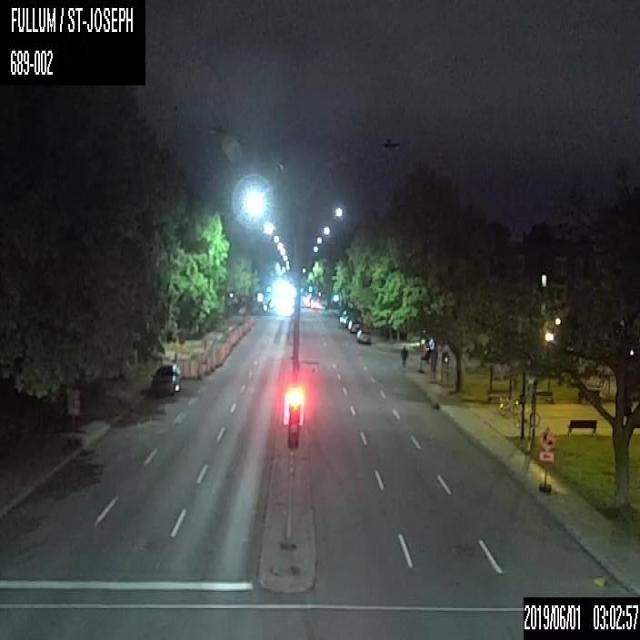construction: (536, 425, 556, 492), (186, 358, 194, 378), (203, 355, 210, 374), (210, 351, 216, 371)
pedestrian: (398, 344, 409, 367)
vehicle: (148, 360, 181, 396), (355, 325, 370, 344), (347, 318, 361, 332)
